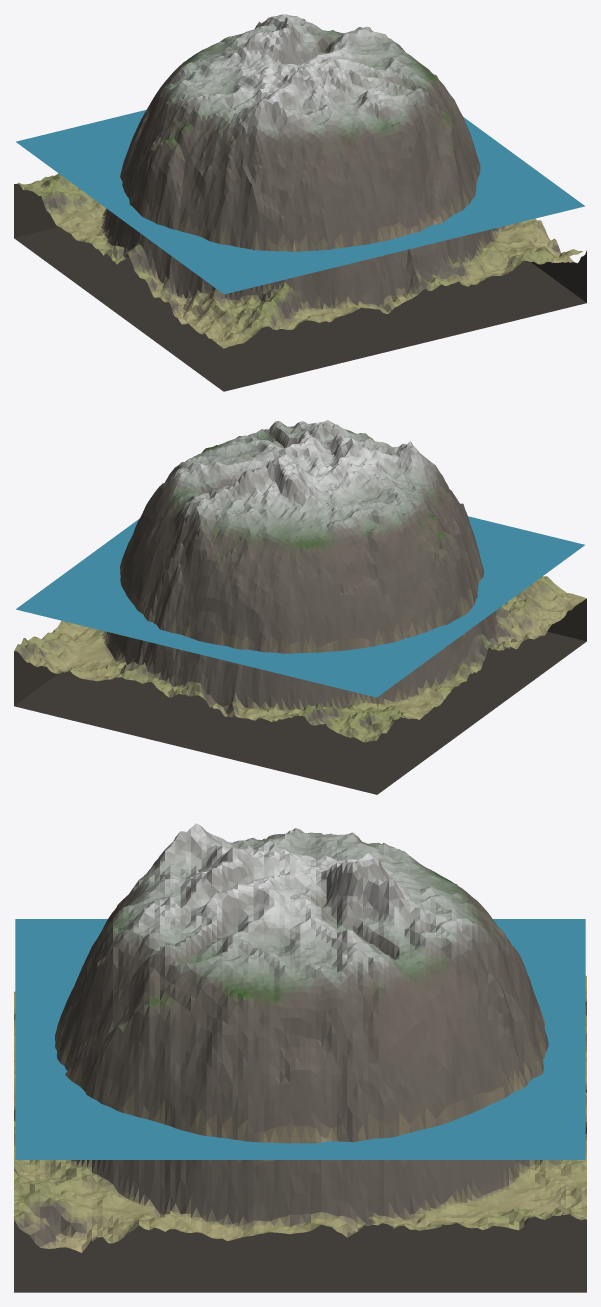
The model's file is terrain_island.glb.
The picture shows the model from 3 angles, top to bottom: view 1: azimuth 30°, elevation 25°; view 2: azimuth 150°, elevation 25°; view 3: azimuth 270°, elevation 25°; orthographic projection. The views are drawn at different scales.
Visible parts, largest first — view 1: terrain; view 2: terrain; view 3: terrain.
Part boxes in pixels (x1=…): terrain: x1=14, y1=14, x2=586, y2=391; terrain: x1=14, y1=420, x2=586, y2=794; terrain: x1=14, y1=823, x2=586, y2=1292.
Bounding box in the file's own units: 48 × 28.82 × 48.
